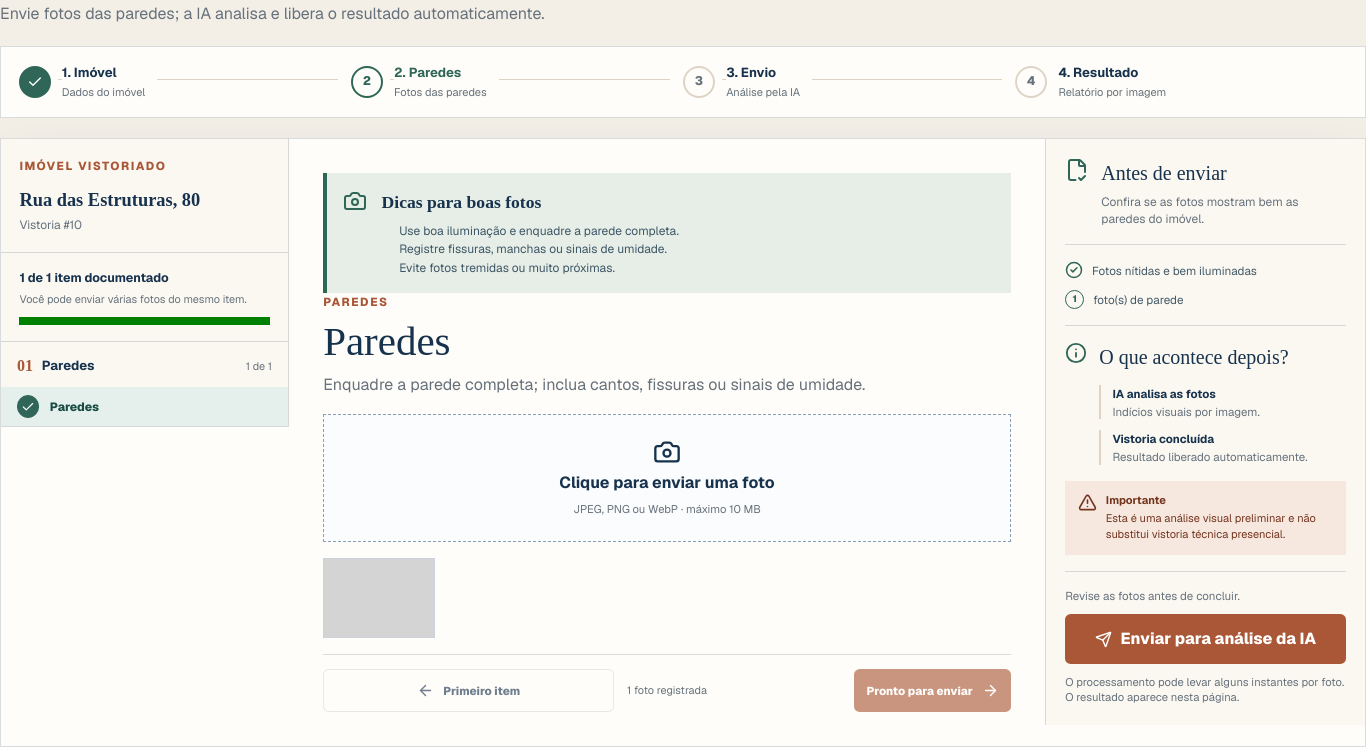
InspectionWorkflow › submete e mostra o resultado quando a IA conclui
(page scrolled)
expect the text "1 de 1 item documentado" is shown: met, box [19,270,169,286]
Double-click the button "Enviar para análise da IA" at (1206, 639), box [1065,614,1346,664]
(page scrolled)
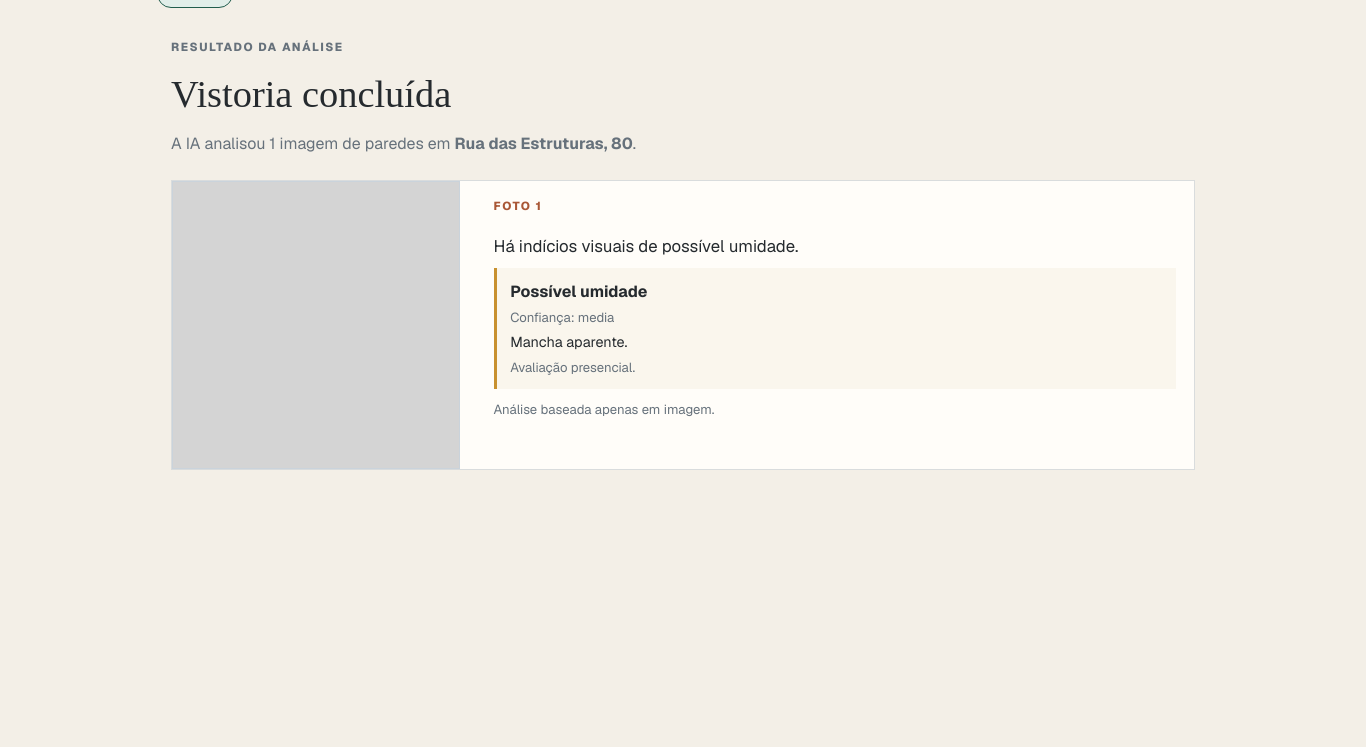
expect the heading "Vistoria concluída" is shown: met, box [171,73,451,115]
expect the text "Possível umidade" is shown: met, box [510,281,647,302]
